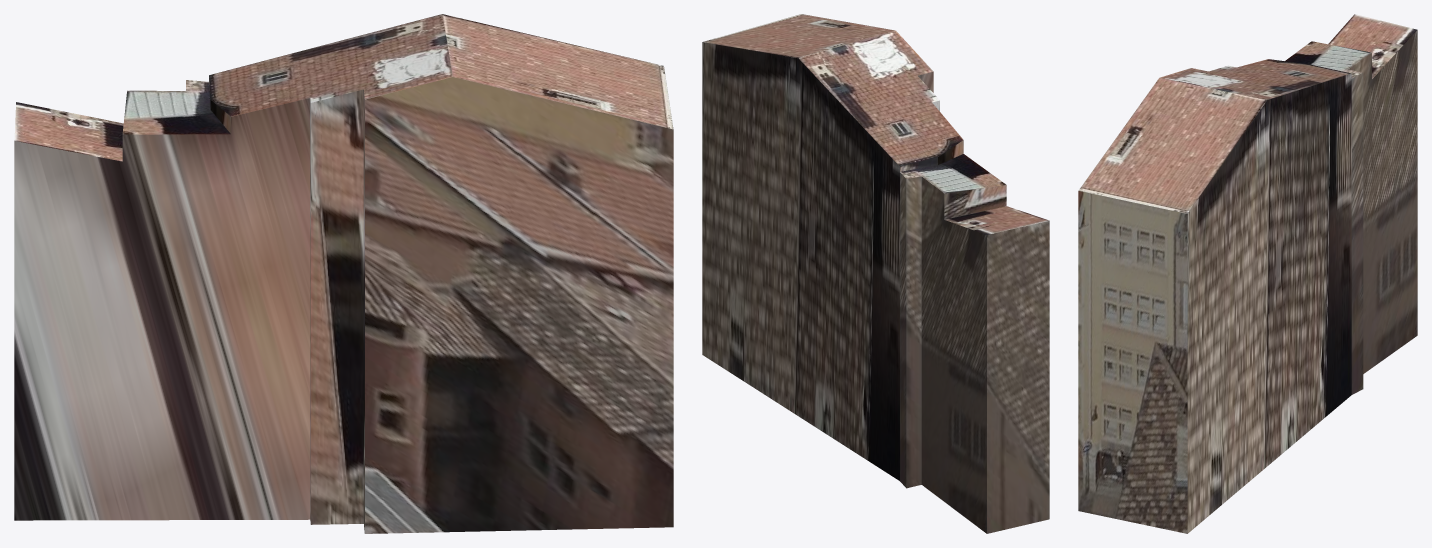
The picture shows the model from 3 angles, left to right: view 1: azimuth 30°, elevation 25°; view 2: azimuth 150°, elevation 25°; view 3: azimuth 270°, elevation 25°; orthographic projection. The views are drawn at different scales.
Parts seen in each view (by area): view 1: Z_UP; view 2: Z_UP; view 3: Z_UP.
Boxes of the visible parts, x1,y1,x2,y2 form: Z_UP: [14, 14, 673, 533]; Z_UP: [702, 14, 1049, 533]; Z_UP: [1078, 14, 1417, 533].
Size of the model in its own units: 24.63 by 19.63 by 16.47.
Materials: 2 (1 with a texture image).
